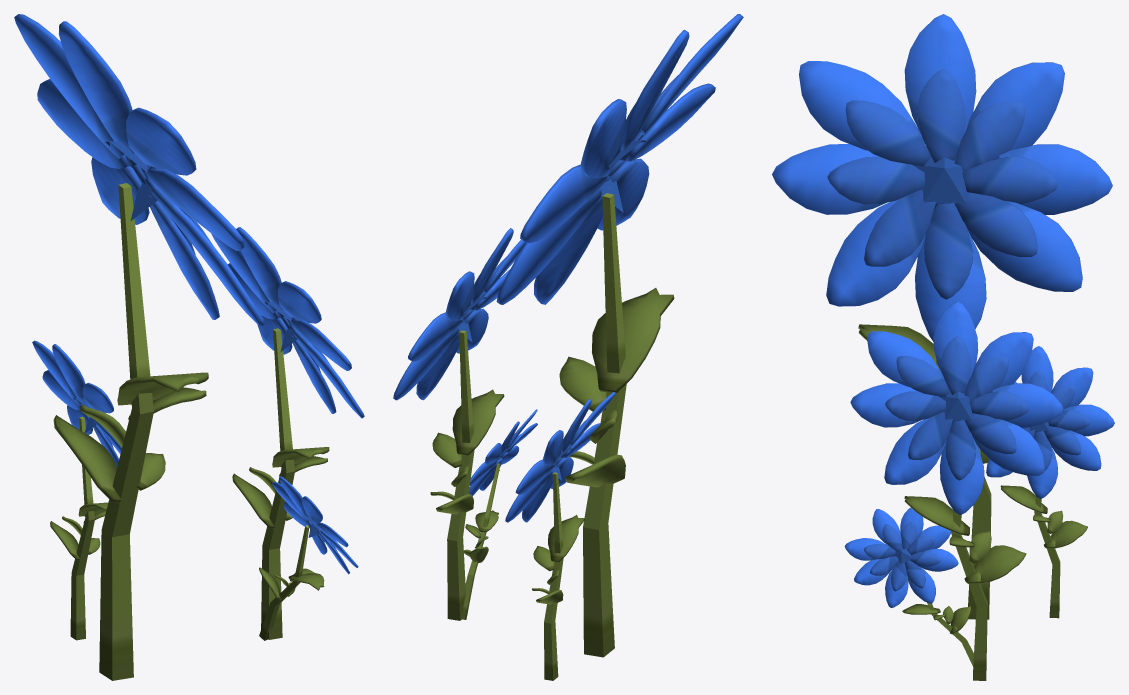
File: PlantaFlorAzul.glb
The picture shows the model from 3 angles, left to right: view 1: azimuth 30°, elevation 25°; view 2: azimuth 150°, elevation 25°; view 3: azimuth 270°, elevation 25°; orthographic projection. The views are drawn at different scales.
Parts seen in each view (by area): view 1: PlantaFlorAzul; view 2: PlantaFlorAzul; view 3: PlantaFlorAzul.
Boxes of the visible parts, box(x1,y1,x2,y2) form: PlantaFlorAzul: box(14, 14, 364, 680); PlantaFlorAzul: box(393, 14, 743, 680); PlantaFlorAzul: box(772, 14, 1114, 680).
Size of the model in its own units: 1.85 by 4.31 by 2.34.
Materials: 1 (1 with a texture image).
